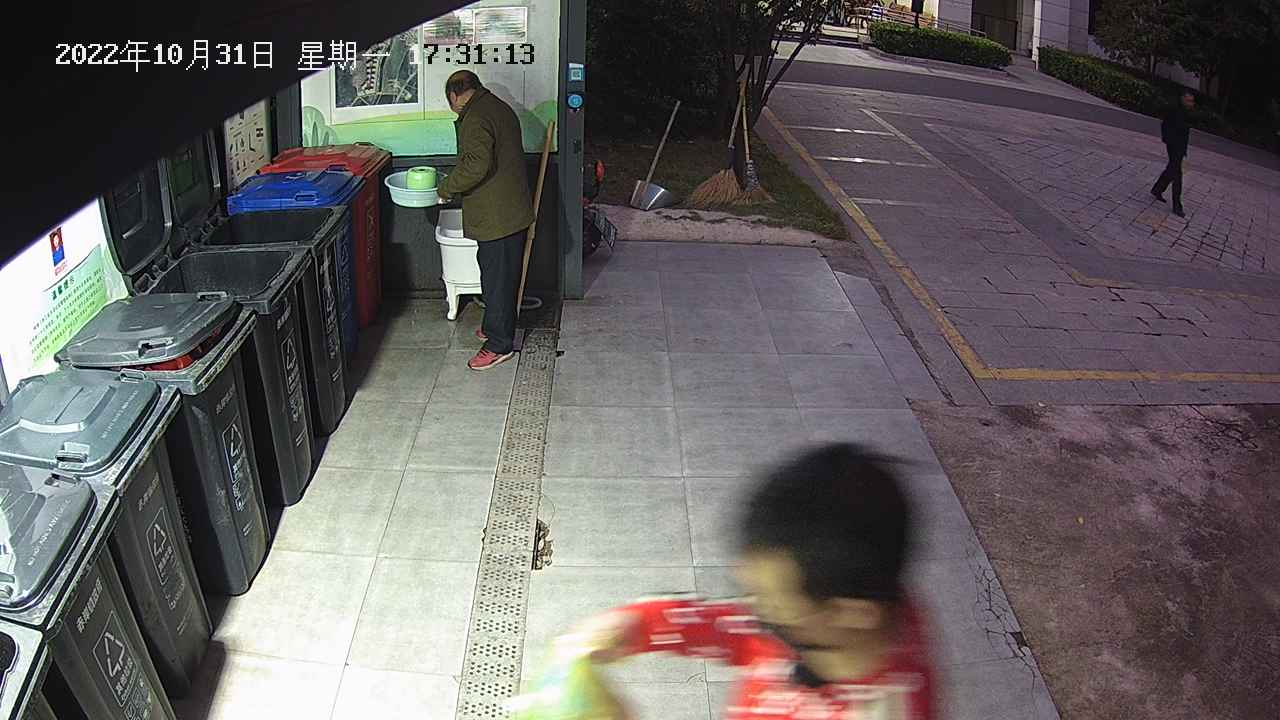garbage-bag: (497, 644, 641, 720)
person: (559, 441, 949, 720), (433, 69, 537, 372)
suliaozhipin: (384, 163, 450, 207)
